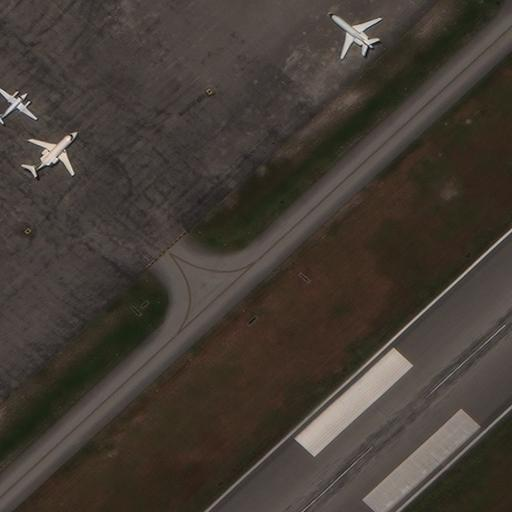Medium Civil Transport: (327, 11, 381, 60), (29, 131, 78, 176), (0, 86, 38, 120)
